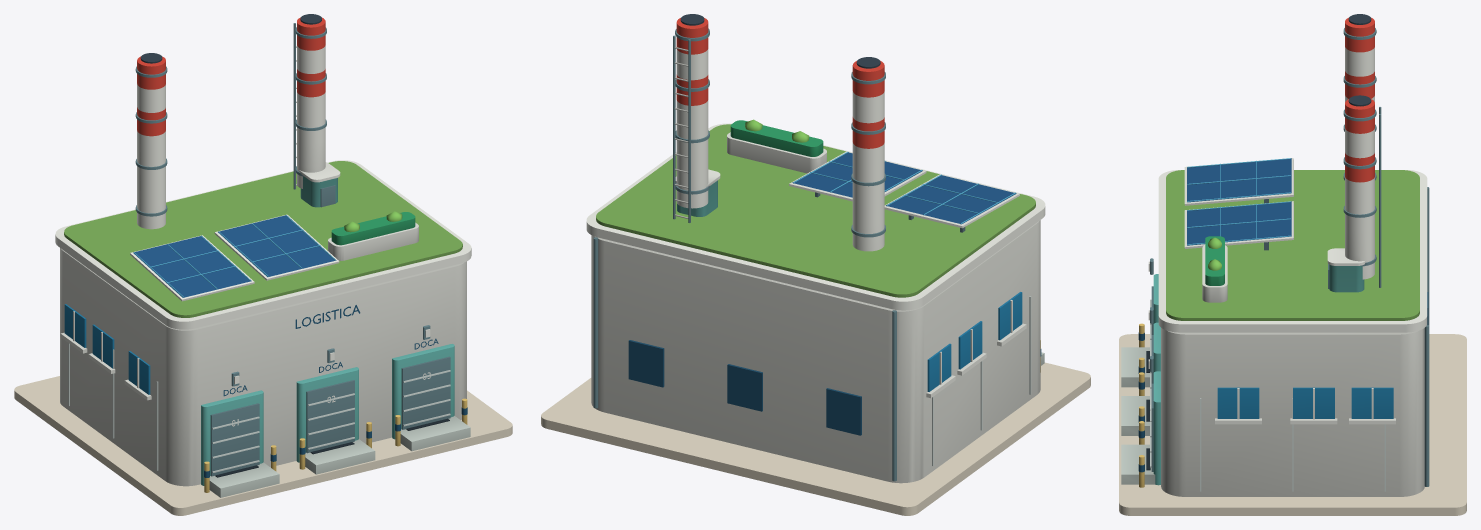
File: factory.glb
3 renders of one model, left to right at view 1: azimuth 30°, elevation 25°; view 2: azimuth 150°, elevation 25°; view 3: azimuth 270°, elevation 25°, orthographic. The views are drawn at different scales.
Parts seen in each view (by area): view 1: clean industrial shell, green roof, industrial paved footing, roof access hatch, photovoltaic cells, roof access, loading threshold, factory exhaust.004, roller rib, factory side glass, planter foliage, solar cell division (+2 smaller); view 2: clean industrial shell, green roof, industrial paved footing, photovoltaic cells, identity DOCA, roof access hatch, factory exhaust.004, factory side glass, planter foliage, solar cell division, roller rib; view 3: clean industrial shell, green roof, industrial paved footing, photovoltaic cells, factory side glass, roof access hatch, loading threshold, factory exhaust.004, roof access, solar cell division, planter foliage, roller rib (+2 smaller).
Part boxes in pixels (x1=…): clean industrial shell: x1=55, y1=45, x2=471, y2=486; green roof: x1=64, y1=161, x2=462, y2=317; industrial paved footing: x1=14, y1=376, x2=512, y2=515; roof access hatch: x1=135, y1=23, x2=450, y2=476; photovoltaic cells: x1=133, y1=215, x2=336, y2=297; roof access: x1=201, y1=176, x2=454, y2=485; loading threshold: x1=209, y1=416, x2=470, y2=497; factory exhaust.004: x1=137, y1=17, x2=325, y2=136; roller rib: x1=68, y1=343, x2=450, y2=472; factory side glass: x1=64, y1=304, x2=150, y2=394; planter foliage: x1=331, y1=212, x2=415, y2=245; solar cell division: x1=133, y1=215, x2=335, y2=297; clean industrial shell: x1=586, y1=47, x2=1045, y2=483; green roof: x1=596, y1=124, x2=1035, y2=297; industrial paved footing: x1=541, y1=362, x2=1090, y2=515; photovoltaic cells: x1=792, y1=152, x2=1016, y2=224; identity DOCA: x1=628, y1=340, x2=1041, y2=435; roof access hatch: x1=593, y1=28, x2=965, y2=481; factory exhaust.004: x1=676, y1=18, x2=884, y2=148; factory side glass: x1=927, y1=292, x2=1022, y2=391; planter foliage: x1=730, y1=120, x2=823, y2=156; solar cell division: x1=793, y1=152, x2=1015, y2=224; roller rib: x1=932, y1=296, x2=1031, y2=465; clean industrial shell: x1=1148, y1=47, x2=1427, y2=496; green roof: x1=1166, y1=170, x2=1419, y2=320; industrial paved footing: x1=1119, y1=334, x2=1466, y2=515; photovoltaic cells: x1=1187, y1=158, x2=1291, y2=245; factory side glass: x1=1217, y1=387, x2=1393, y2=418; roof access hatch: x1=1150, y1=28, x2=1429, y2=486; loading threshold: x1=1121, y1=347, x2=1155, y2=484; factory exhaust.004: x1=1345, y1=17, x2=1374, y2=182; roof access: x1=1153, y1=265, x2=1364, y2=485; solar cell division: x1=1187, y1=158, x2=1290, y2=245; planter foliage: x1=1205, y1=236, x2=1224, y2=285; roller rib: x1=1150, y1=299, x2=1385, y2=491.
Size of the model in its own units: 4.9 by 4.87 by 4.15.
